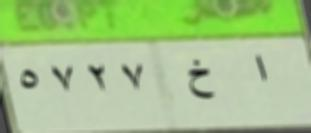2: (85, 59, 112, 98)
5: (15, 58, 44, 96)
7: (117, 61, 150, 97), (48, 58, 78, 94)
alif: (248, 52, 269, 88)
khaa: (183, 52, 221, 106)
